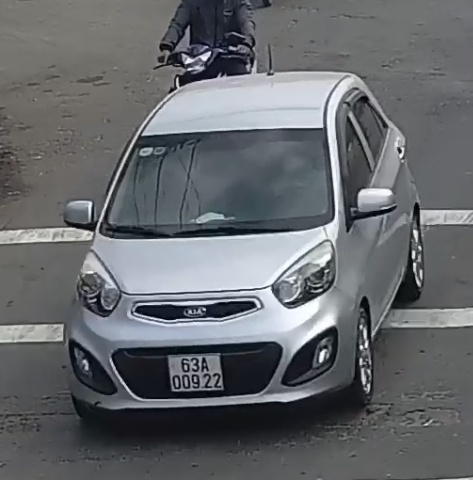vehicle plate: (164, 351, 226, 393)
